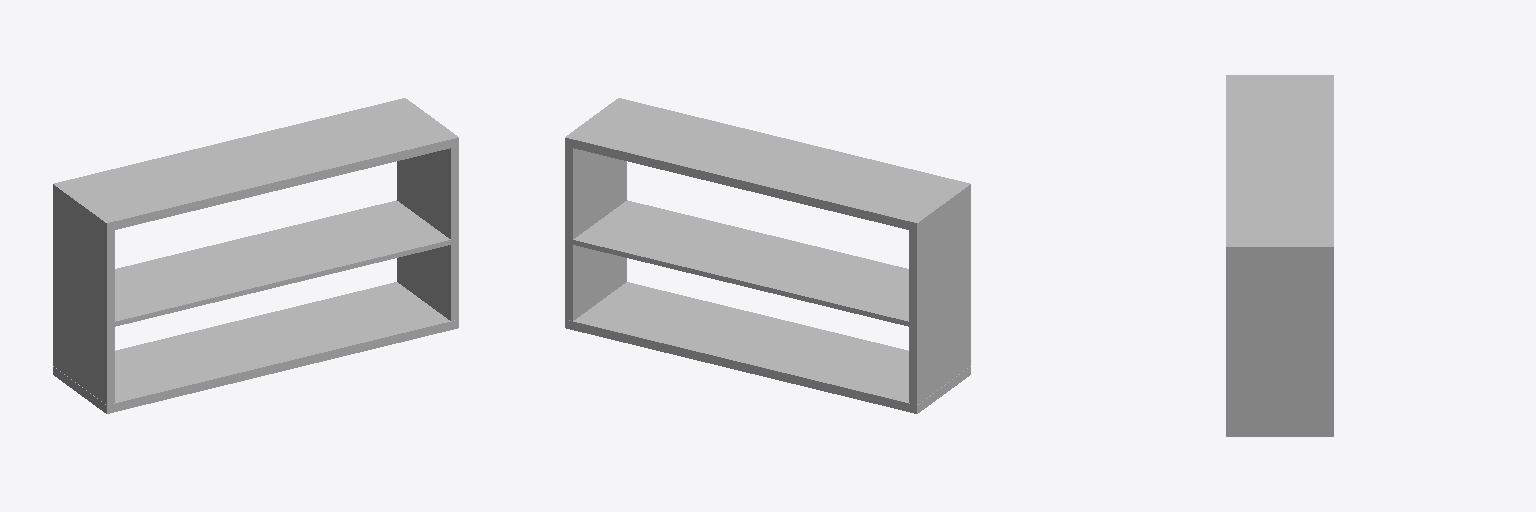
File: Ikea_meuble.obj
The picture shows the model from 3 angles: view 1: azimuth 30°, elevation 25°; view 2: azimuth 150°, elevation 25°; view 3: azimuth 270°, elevation 25°; orthographic projection.
Parts seen in each view (by area): view 1: Cube.001, Cube.002, Cube.004, Cube, Cube.003; view 2: Cube.001, Cube.002, Cube.004, Cube, Cube.003; view 3: Cube.001, Cube.003, Cube.002.
Part boxes in pixels (x1,y1,x2,y2): Cube.001: (53,98,458,231); Cube.002: (53,282,458,413); Cube.004: (115,200,450,326); Cube: (53,193,114,404); Cube.003: (397,146,458,320); Cube.001: (565,98,970,231); Cube.002: (565,282,970,413); Cube.004: (573,200,908,326); Cube: (909,193,970,404); Cube.003: (565,146,626,320); Cube.001: (1226,75,1333,254); Cube.003: (1226,255,1333,428); Cube.002: (1226,429,1333,436).
Size of the model in its own units: 2.94 by 1.52 by 0.78.